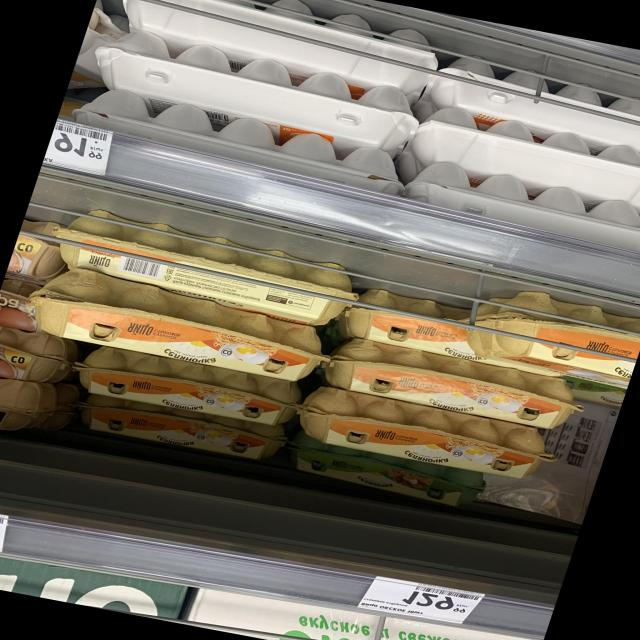organic waste: (16, 264, 335, 388), (290, 383, 566, 487), (314, 334, 594, 434), (66, 340, 312, 433), (65, 391, 292, 469), (466, 282, 640, 383), (0, 321, 82, 391)
